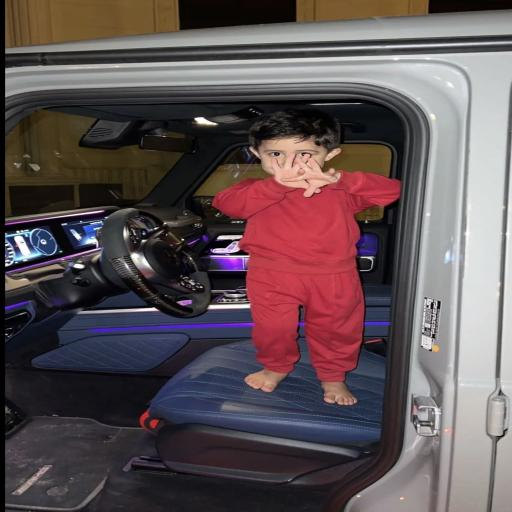bottle: (0, 6, 512, 512)
bus_stop: (214, 102, 404, 410)
